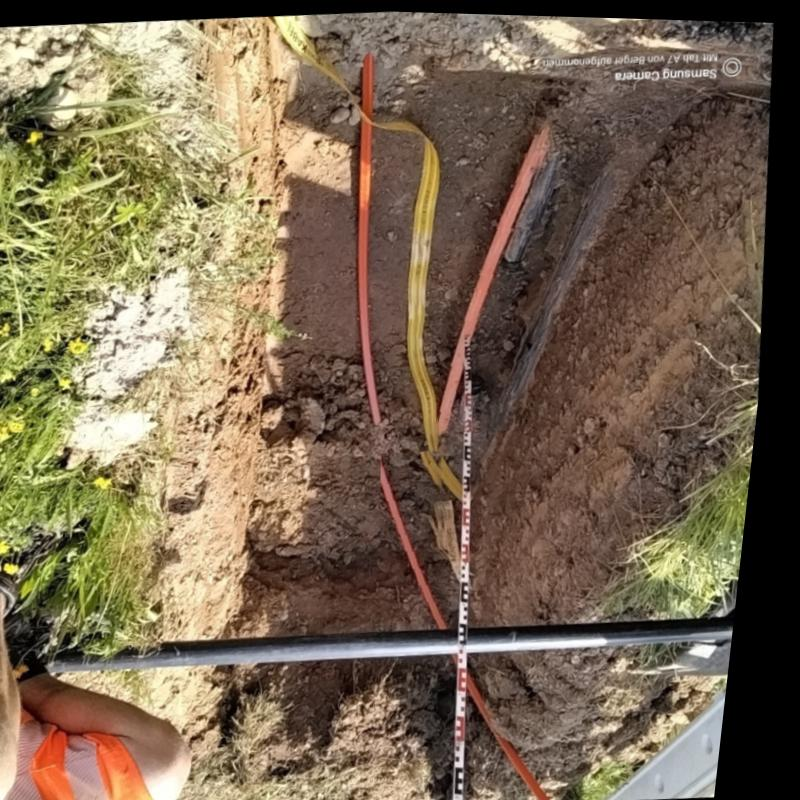Orang-Speednetrohrchen: (447, 131, 544, 429), (391, 458, 458, 624), (364, 52, 391, 421)
